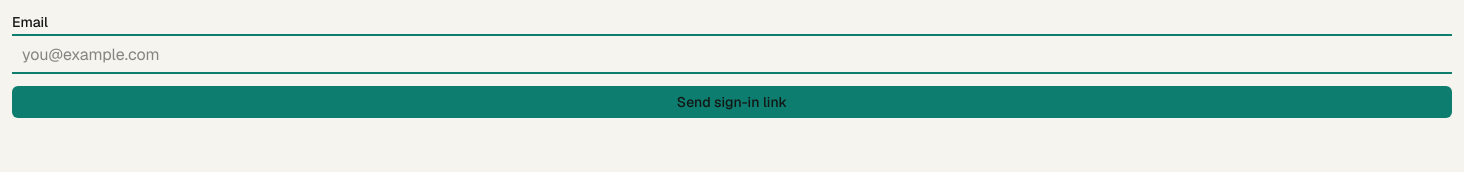
AdminSignInForm › sends the link with the admin next path and shows "Check your email"
In the field labelled "Email": (732, 54) 12,38 -> 1452,70, type " sara@example.com "
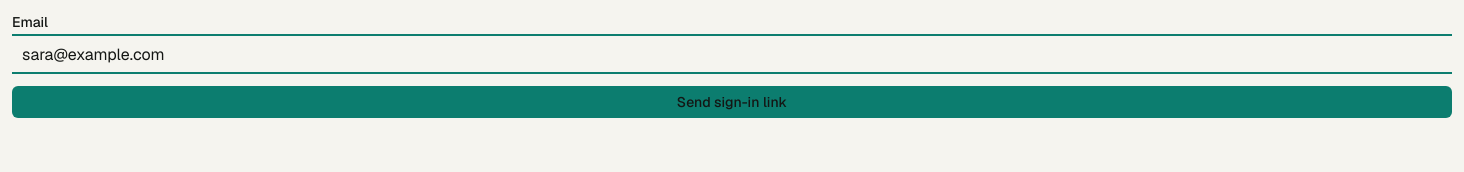
Click the button "Send sign-in link": (732, 102) 12,86 -> 1452,118
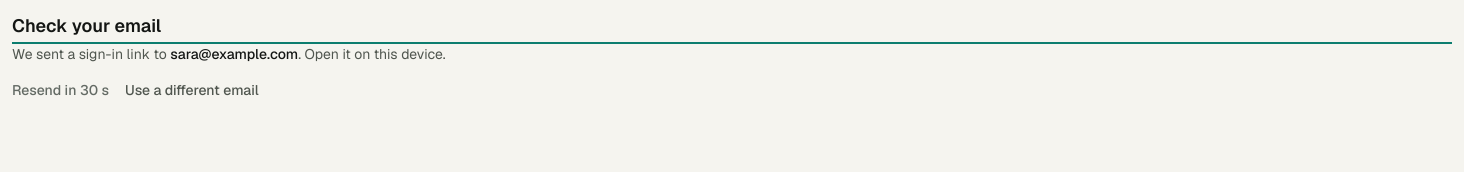
Check: the button "Resend in 30 s" is disabled, box 12,80 -> 109,100
Click the button "Use a different email": (192, 90) 125,80 -> 259,100
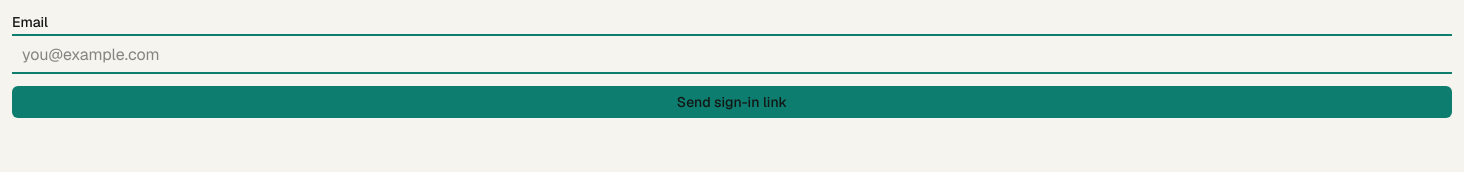
Check: the field labelled "Email" is shown, box 12,38 -> 1452,70
